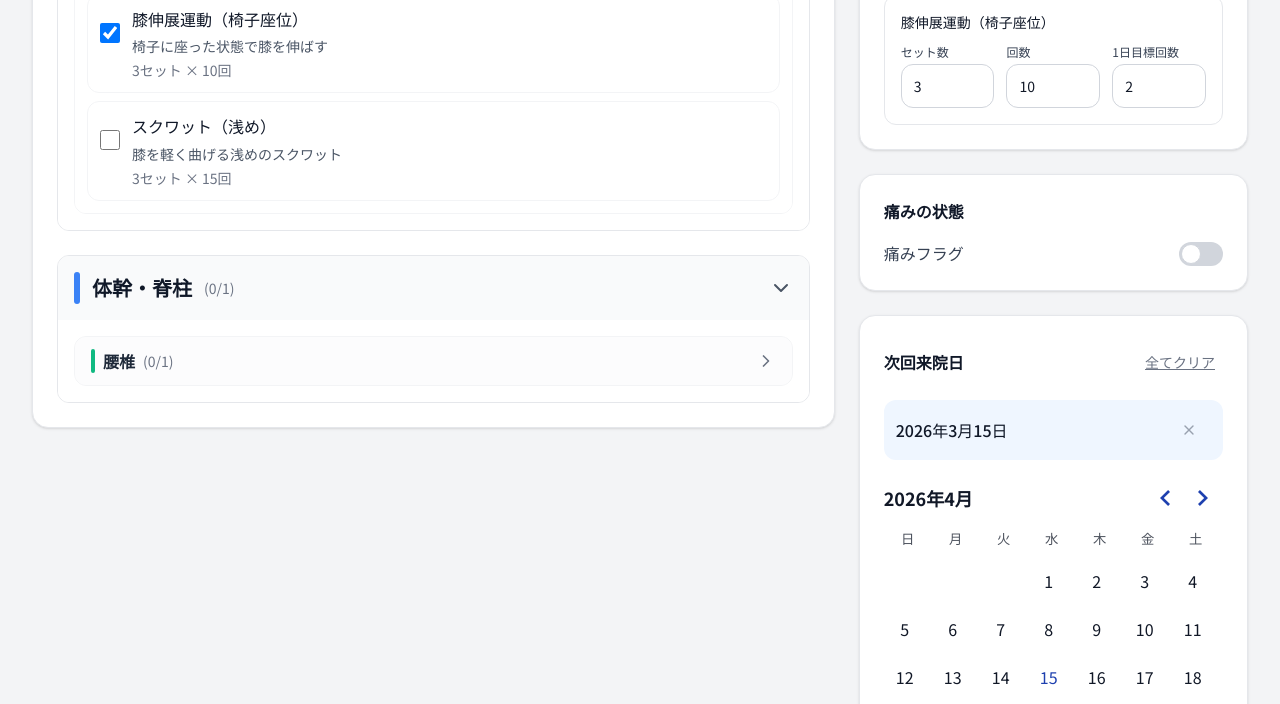
S-06 ExerciseMenu › rendering › should load and display exercise masters
(page scrolled)
expect the 1st text "膝伸展運動（椅子座位）" is shown: met, box [132, 7, 308, 31]
Note: Expand non-assigned minor category to see its exercises
Click the button with aria-label "中分類: 腰椎". click: click(119, 361)
box: [75, 337, 792, 385]
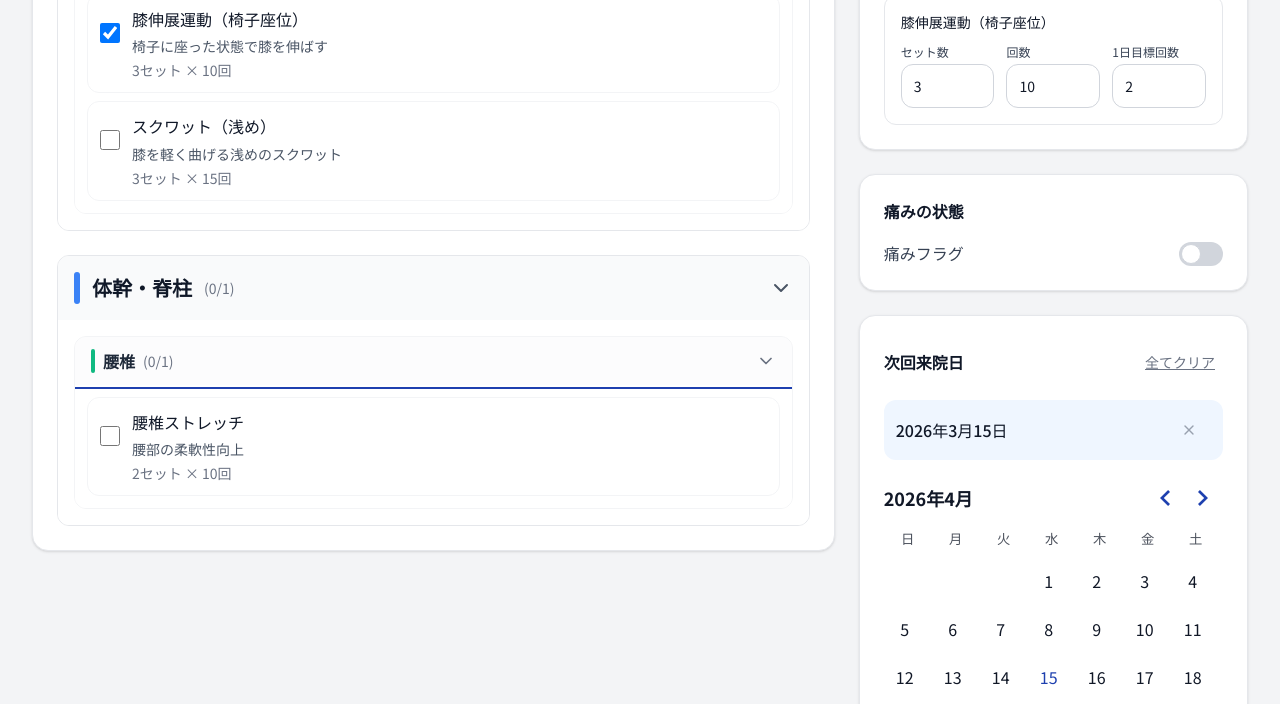
expect the text "腰椎ストレッチ" is shown: met, box [132, 410, 244, 434]
